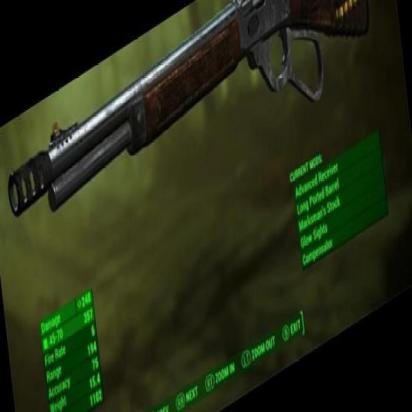Gun: (6, 0, 372, 225)
